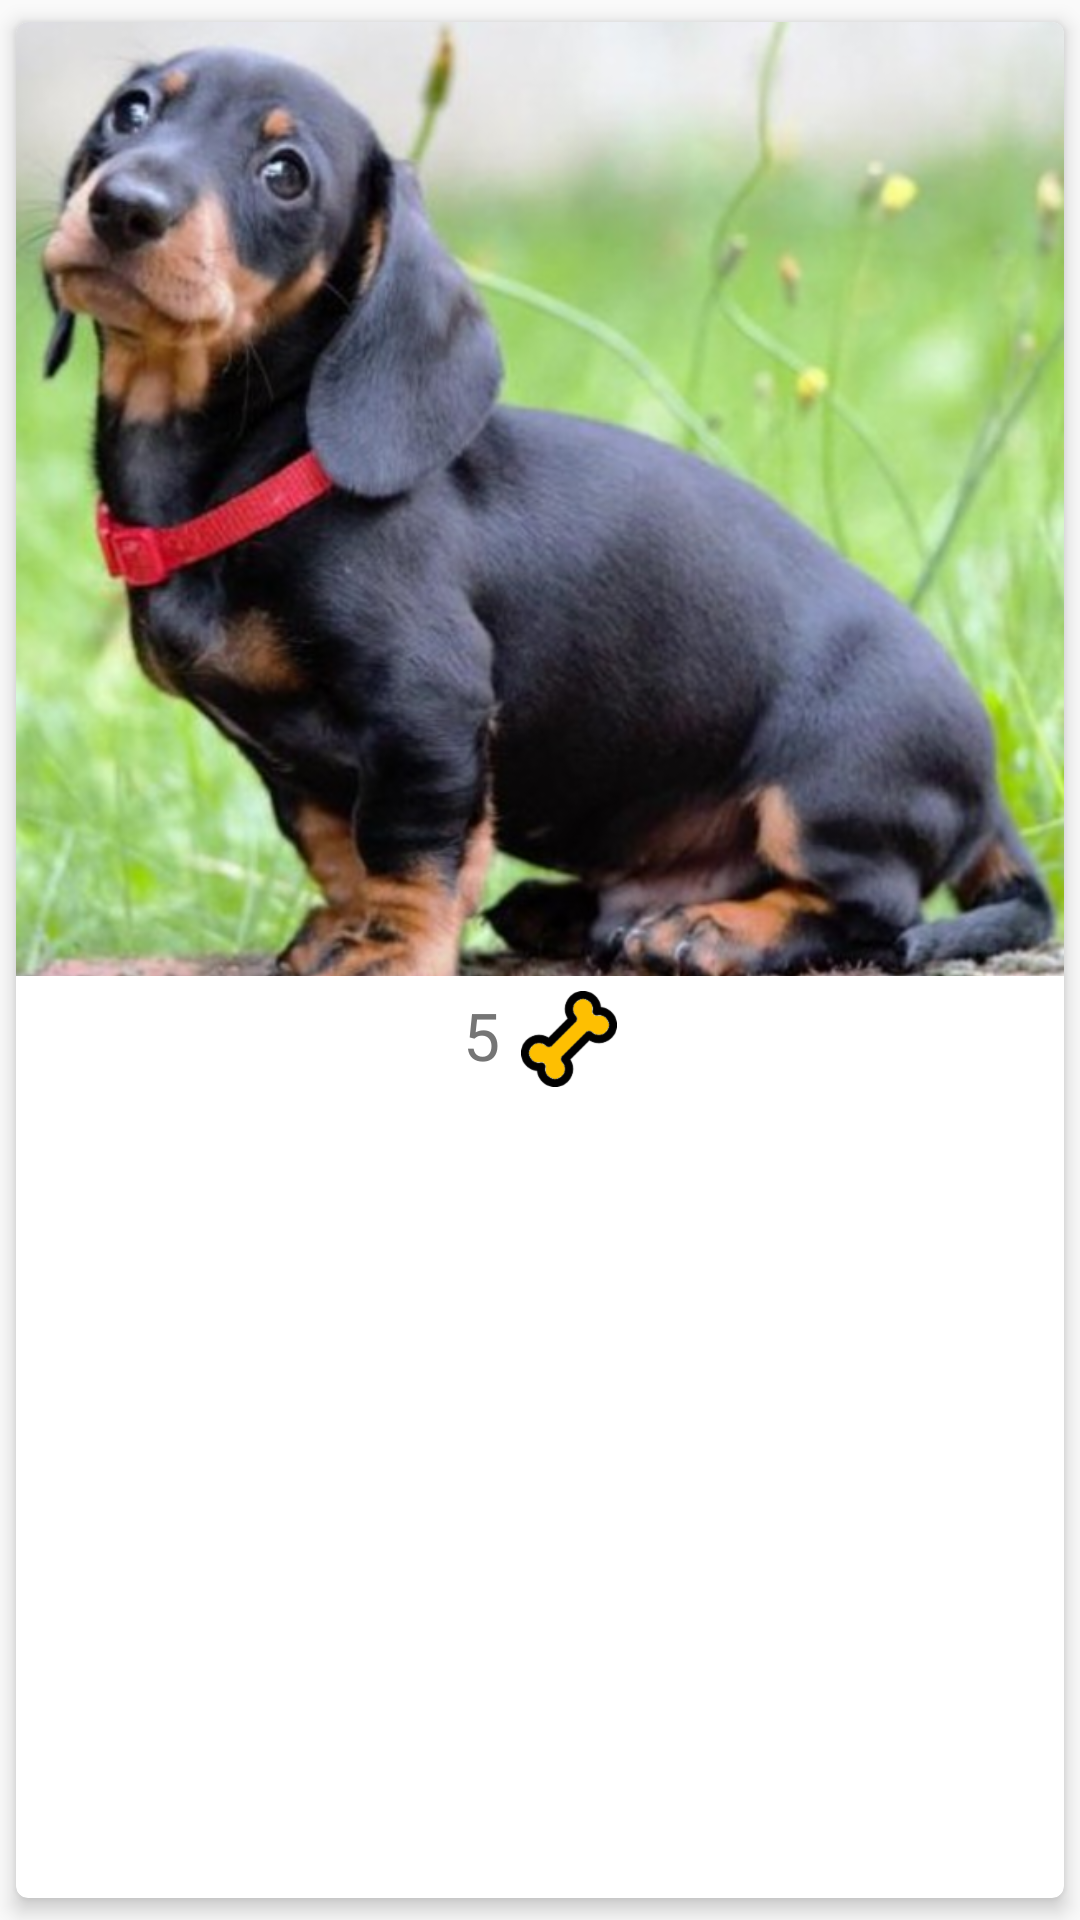

Locate icon controls on the screen. Image size 1080 × 1920, boxes as (x1, y1, x2, y2).
boneamarillo: (521, 991, 617, 1087)
